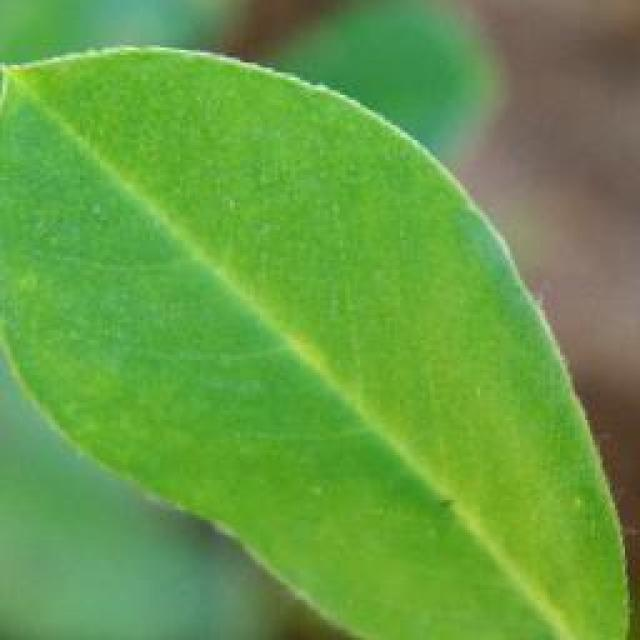Yellow_and_black_sigatoka: (0, 24, 626, 640)
